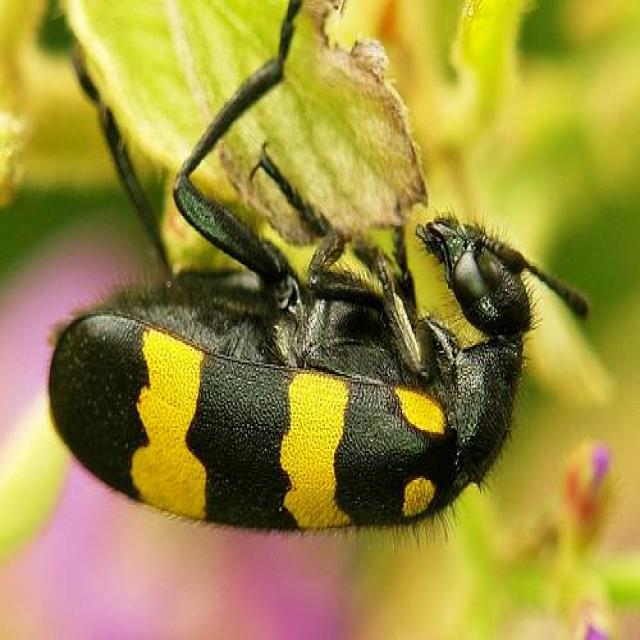BlisterBeetle-Adult-: (12, 178, 590, 552)
